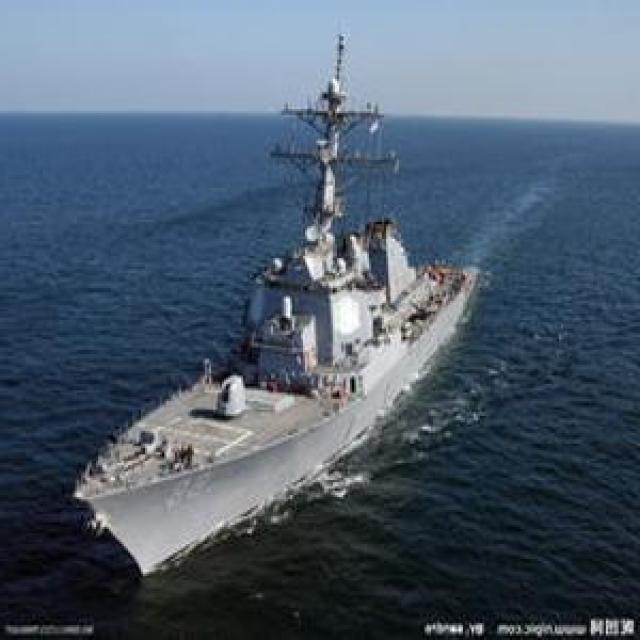navalvessels: (57, 63, 505, 574)
